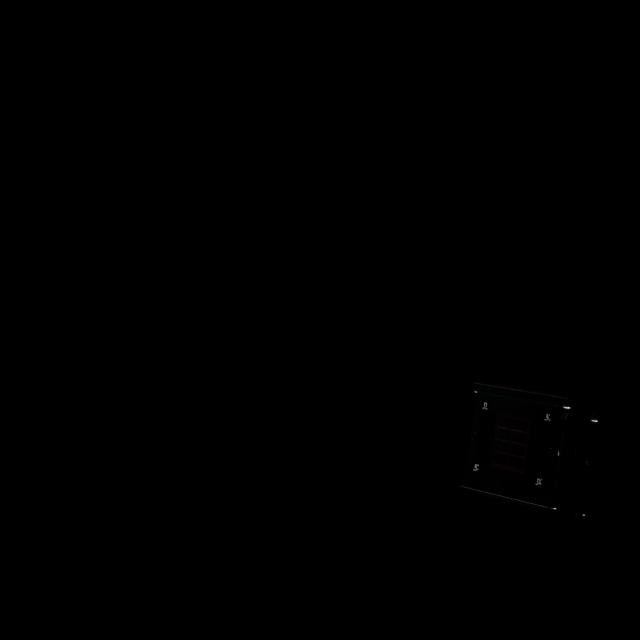medium_debris: (458, 378, 610, 517)
